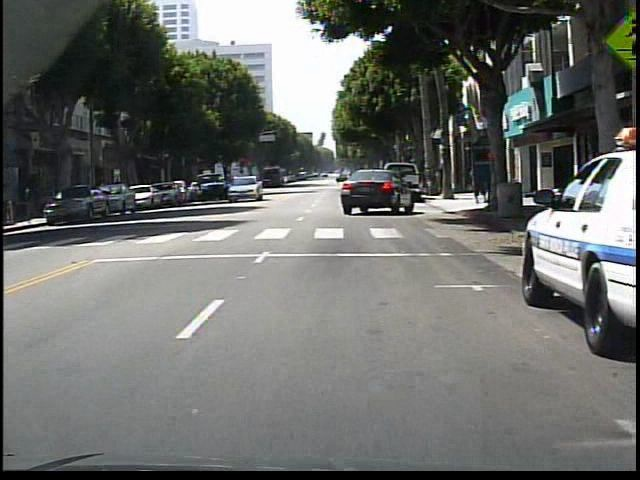person: (467, 159, 490, 208)
